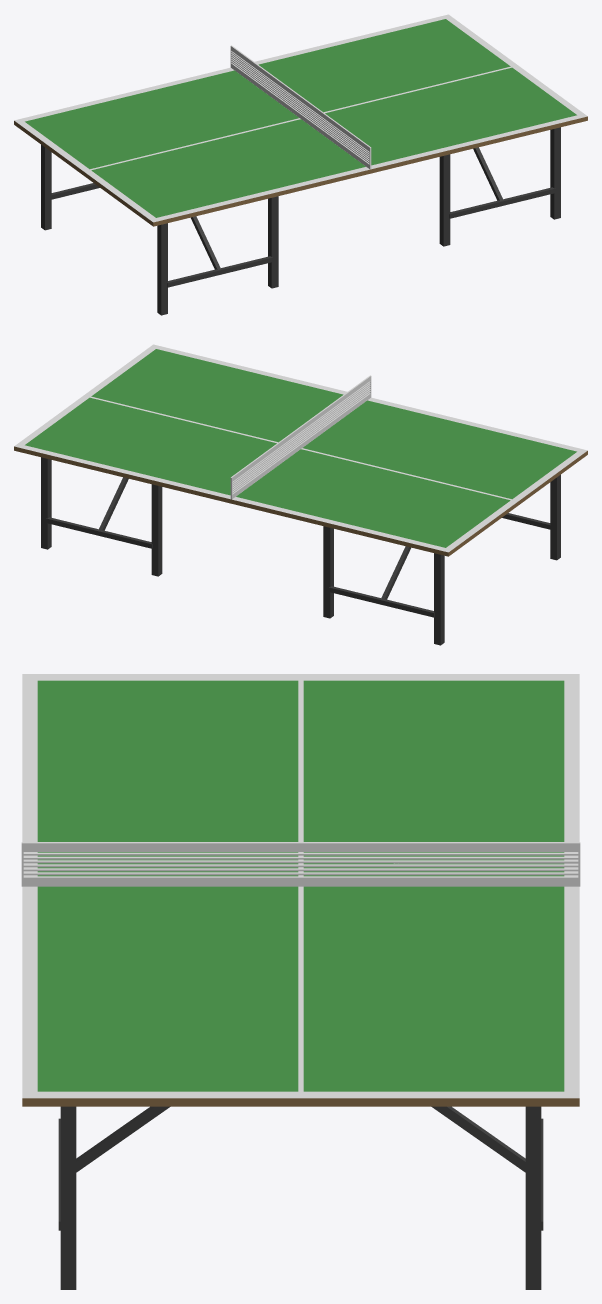
File: table.fbx
3 views of the same model, one above another, from view 1: azimuth 30°, elevation 25°; view 2: azimuth 150°, elevation 25°; view 3: azimuth 270°, elevation 25° (orthographic). The views are drawn at different scales.
Visible parts, largest first — view 1: PingPongTable; view 2: PingPongTable; view 3: PingPongTable.
Part boxes in pixels (x1,y1,x2,y2): PingPongTable: [14, 14, 587, 315]; PingPongTable: [14, 344, 587, 645]; PingPongTable: [21, 674, 580, 1289].
Bounding box in the file's own units: 274 × 76 × 152.
